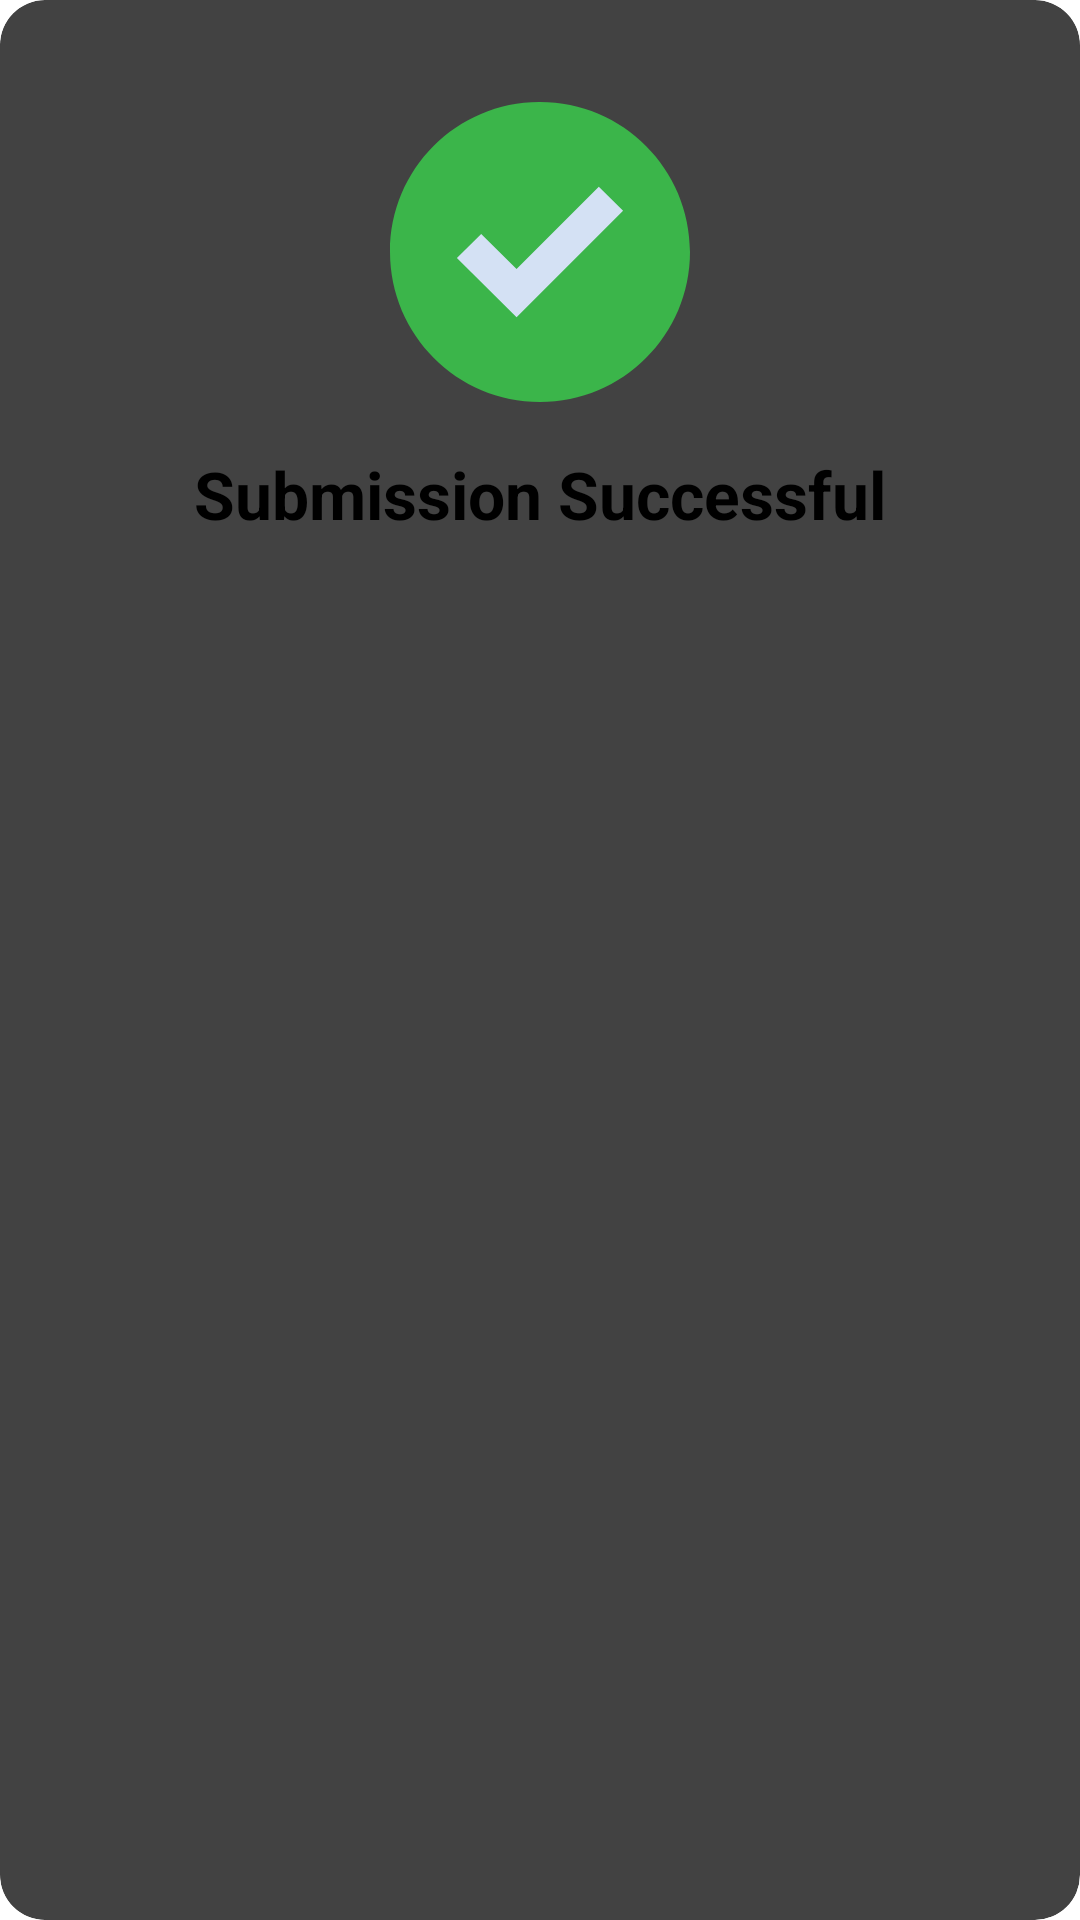

Icons on this 1080 x 1920 Android screen, each with its box as (x1, y1, x2, y2):
check: (390, 102, 690, 402)
